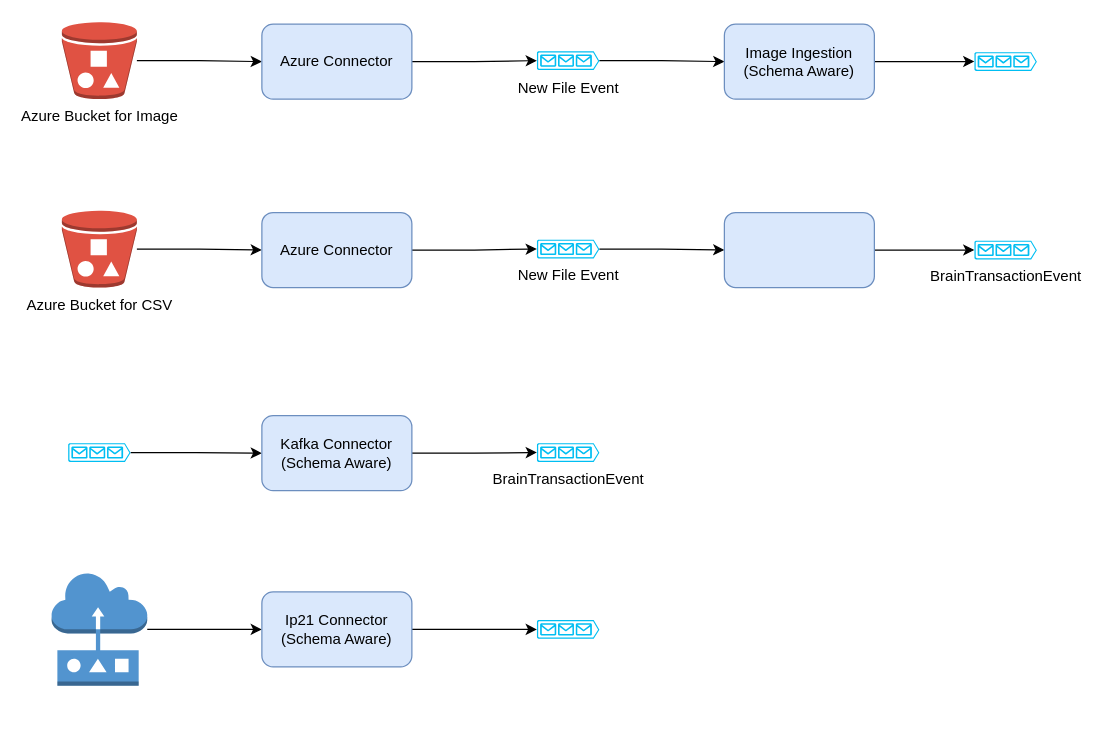
This 1103x734 diagram has some shape labels left out. The shapes that lost their labels are listed below. From the top down, each one's centre as x and y in pixels, then its label:
At (1005,61): "BrainImagetEvent".
At (798,249): "CSV/Excel Ingestion (Schema Aware)".
At (99,451): "Kafka Input Topic".
At (98,629): "Ip 21 Table".
At (567,628): "BrainIoTEvent".
